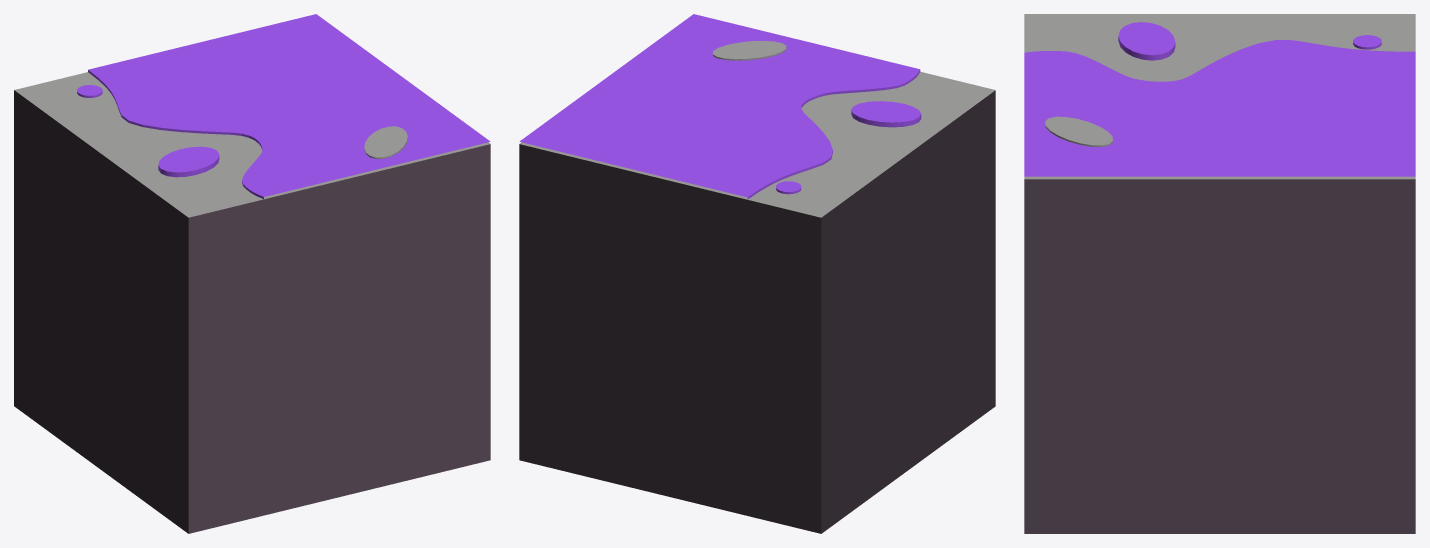
Rendered from tile_obstacle_toxic04.FBX.
The picture shows the model from 3 angles, left to right: view 1: azimuth 30°, elevation 25°; view 2: azimuth 150°, elevation 25°; view 3: azimuth 270°, elevation 25°; orthographic projection. The views are drawn at different scales.
Parts seen in each view (by area): view 1: tile_obstacle_toxic04; view 2: tile_obstacle_toxic04; view 3: tile_obstacle_toxic04.
Boxes of the visible parts, x1,y1,x2,y2 form: tile_obstacle_toxic04: (14, 14, 490, 533); tile_obstacle_toxic04: (519, 14, 995, 533); tile_obstacle_toxic04: (1024, 14, 1415, 533).
Bounding box in the file's own units: 39.37 × 39.97 × 39.38.
